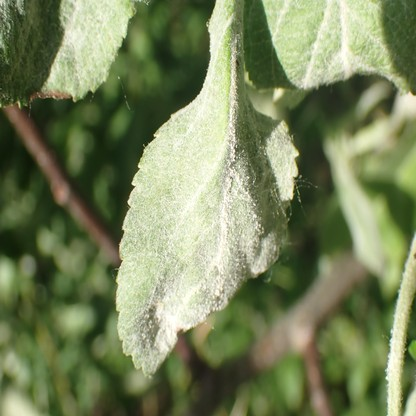powder: (115, 1, 300, 380), (244, 1, 415, 94), (2, 1, 137, 103)
